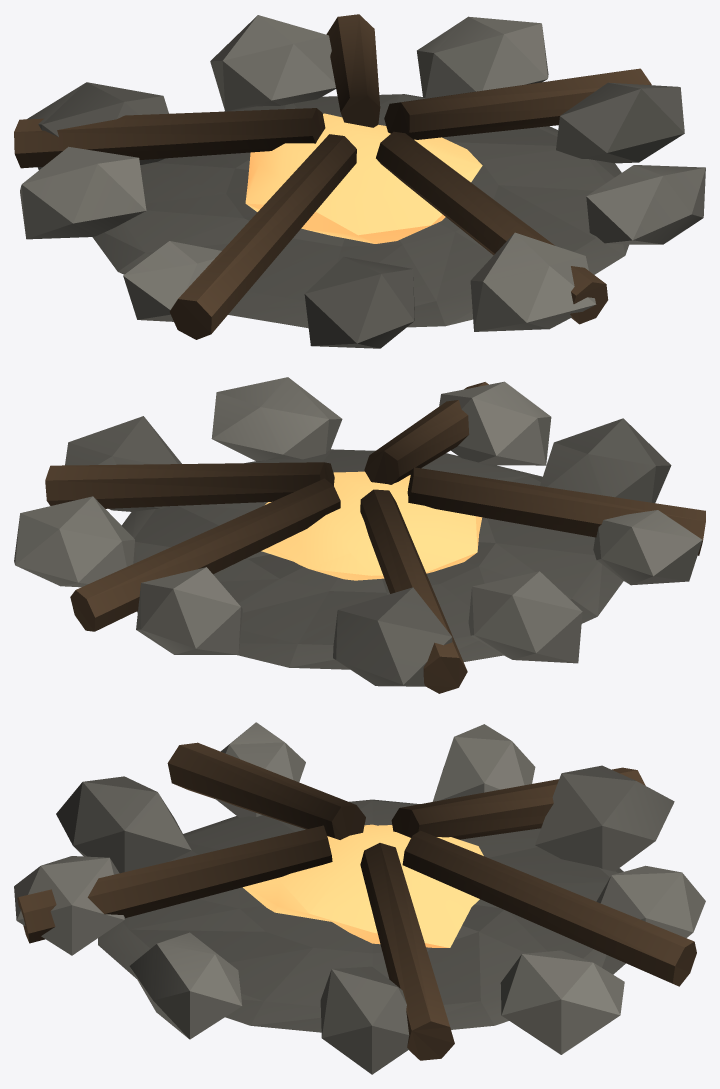
The model's file is hx_fogon.glb.
3 renders of one model, top to bottom at view 1: azimuth 30°, elevation 25°; view 2: azimuth 150°, elevation 25°; view 3: azimuth 270°, elevation 25°, orthographic. The views are drawn at different scales.
Visible parts, largest first — view 1: hx_fogon_geometry; view 2: hx_fogon_geometry; view 3: hx_fogon_geometry.
Boxes of the visible parts, box(x1,y1,x2,y2) form: hx_fogon_geometry: box(14, 14, 705, 348); hx_fogon_geometry: box(14, 377, 705, 693); hx_fogon_geometry: box(14, 722, 705, 1074).
Bounding box in the file's own units: 1.57 × 0.2342 × 1.52.
